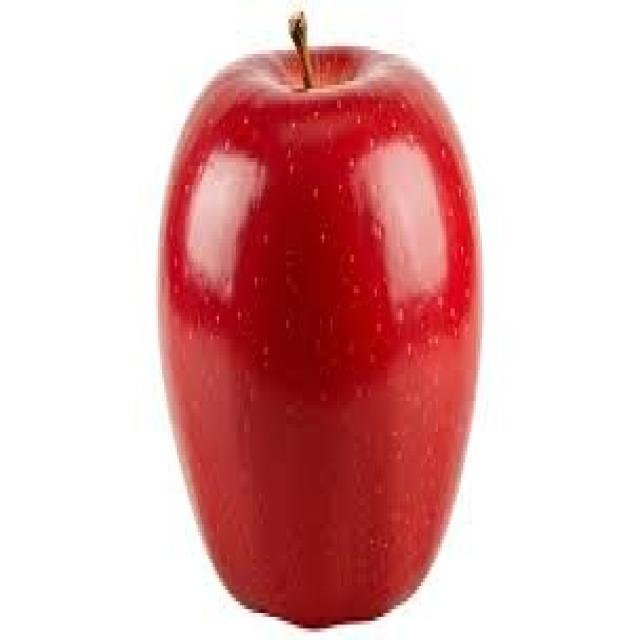Apple: (158, 34, 472, 614)
